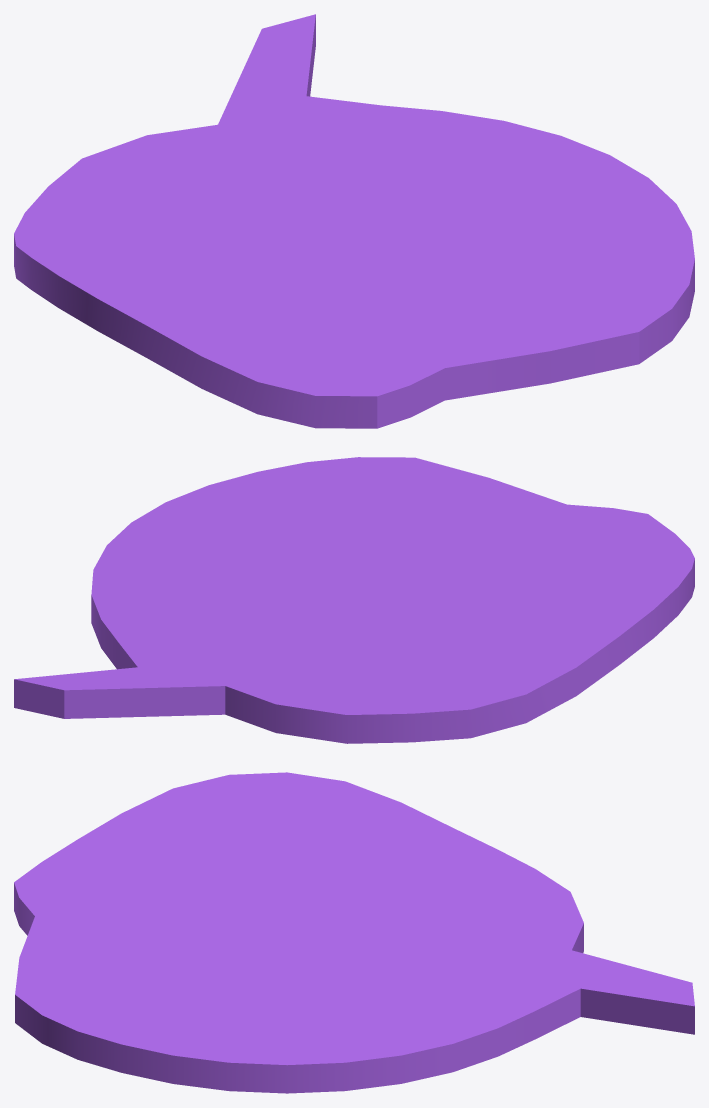
Rendered from post-apple-2.fbx.
3 views of the same model, one above another, from view 1: azimuth 30°, elevation 25°; view 2: azimuth 150°, elevation 25°; view 3: azimuth 270°, elevation 25° (orthographic). The views are drawn at different scales.
Parts seen in each view (by area): view 1: Circle.001; view 2: Circle.001; view 3: Circle.001.
Boxes of the visible parts, box(x1,y1,x2,y2) form: Circle.001: box(14, 14, 694, 428); Circle.001: box(14, 457, 694, 743); Circle.001: box(14, 772, 694, 1093).
Bounding box in the file's own units: 214 × 27.19 × 244.
